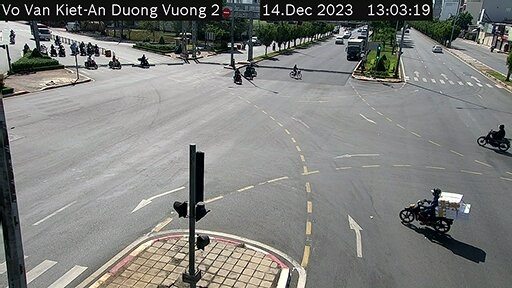motorbike: (396, 183, 466, 239), (478, 124, 511, 155), (228, 67, 242, 85)
truck: (344, 36, 365, 66)
